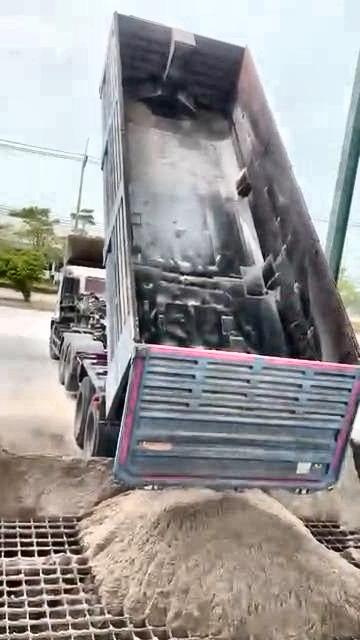sand: (82, 490, 360, 639), (1, 449, 119, 518), (272, 447, 360, 530), (1, 553, 85, 570)
